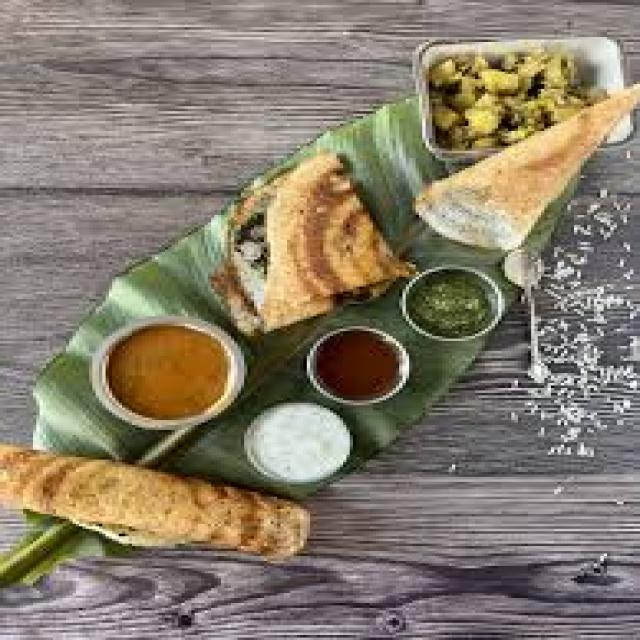DOSA: (412, 82, 637, 245), (211, 148, 409, 329), (0, 440, 304, 539)
